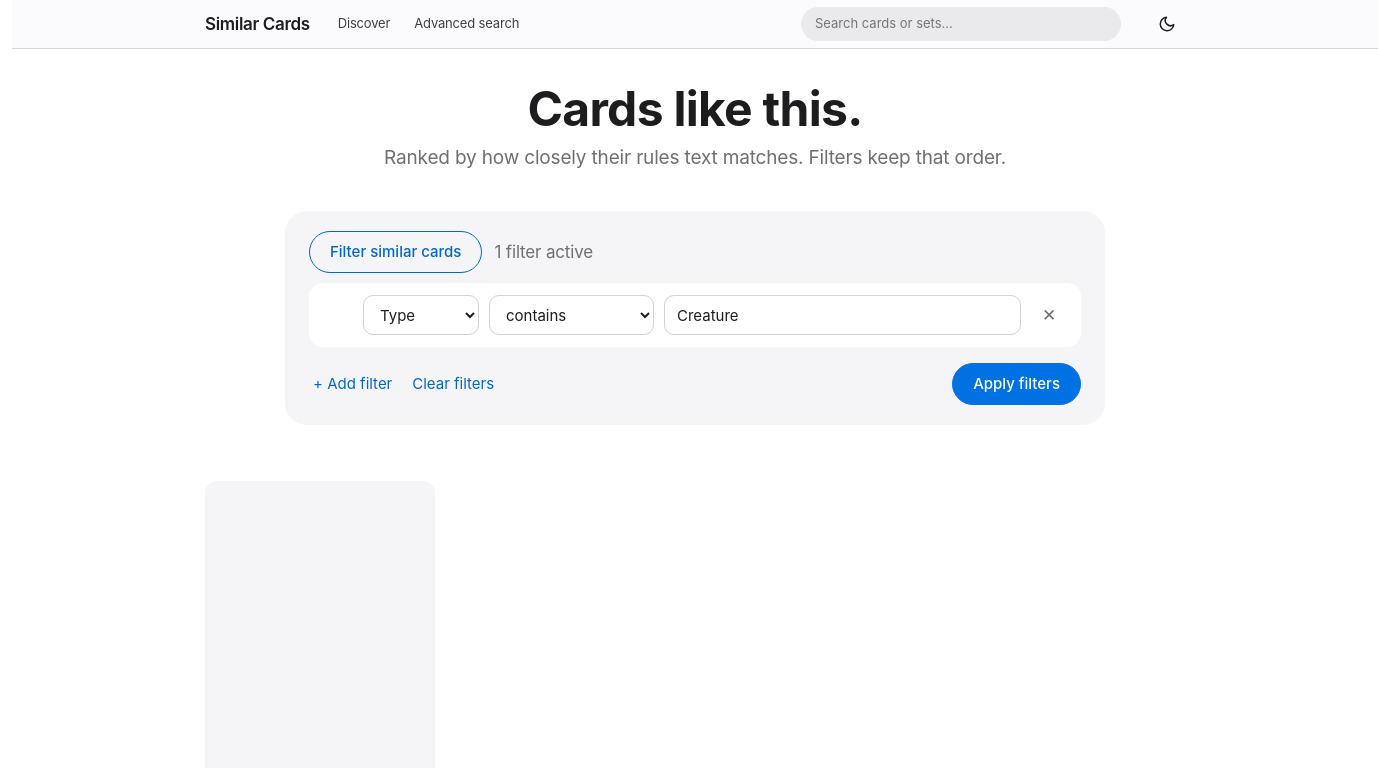
CardPage › clears the filters
(page scrolled)
Click the button "Clear filters".
click(453, 384)  # box [408, 363, 498, 405]
(page scrolled)
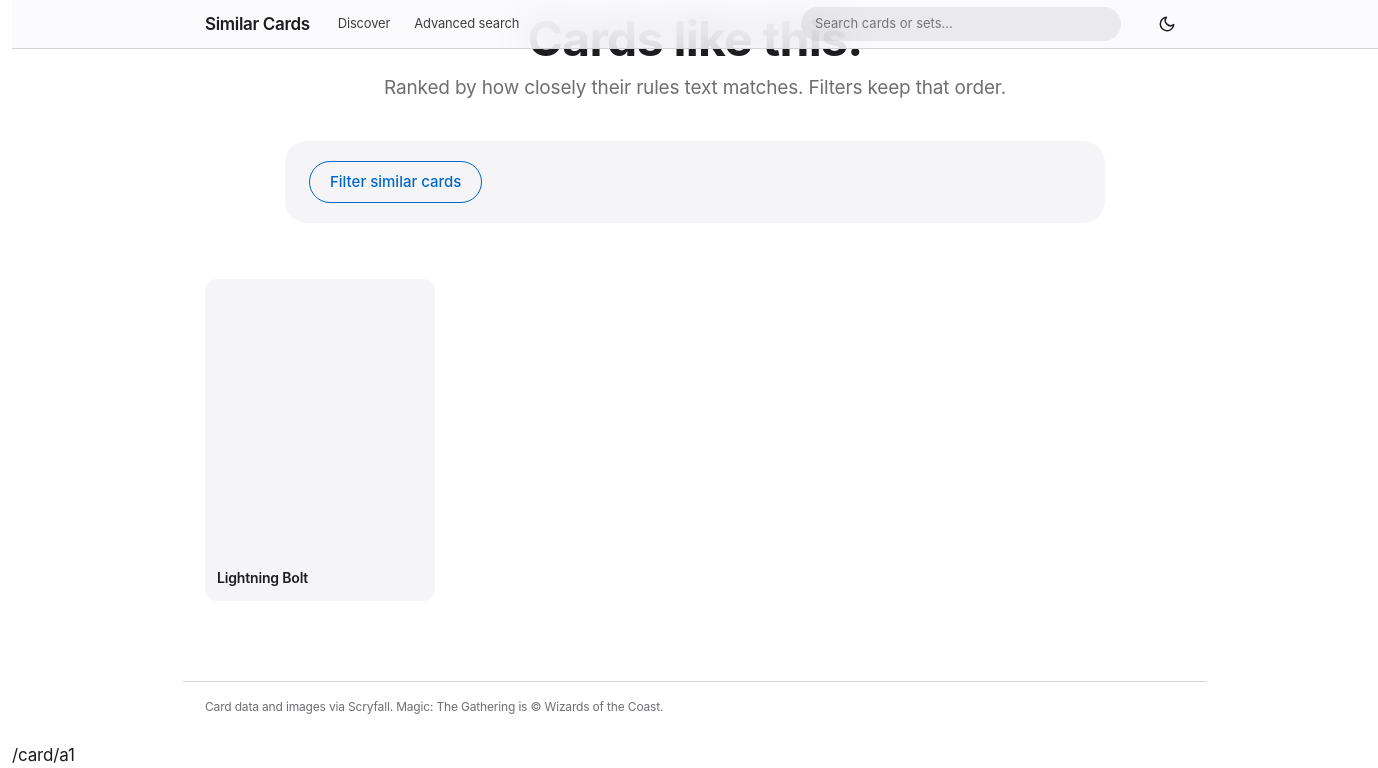
Expected: the text with test id "where" reads "/card/a1", [12, 745, 75, 765]
